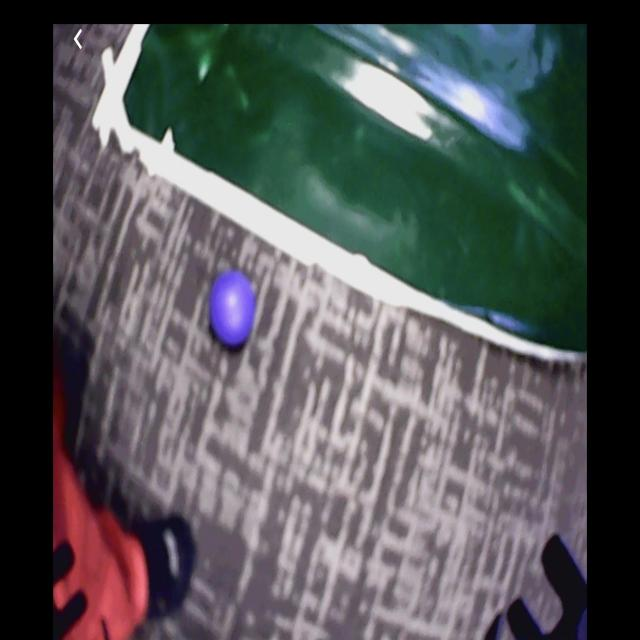ball: (211, 273, 253, 346)
